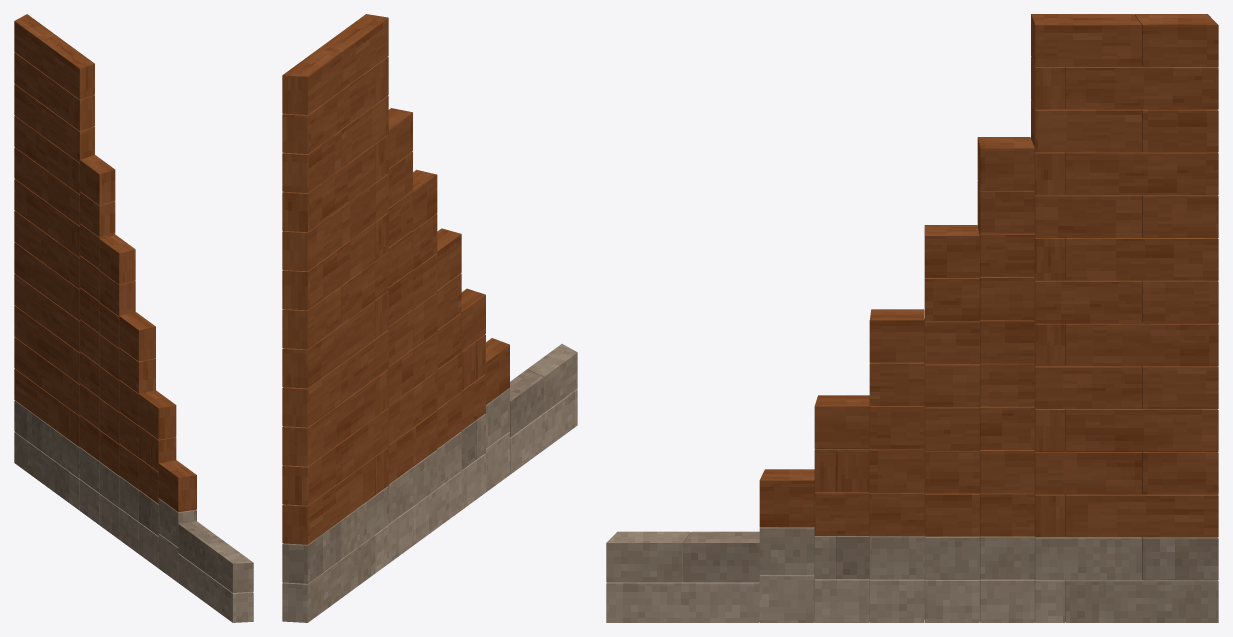
File: Courses-2.glb
3 renders of one model, left to right at view 1: azimuth 30°, elevation 25°; view 2: azimuth 150°, elevation 25°; view 3: azimuth 270°, elevation 25°, orthographic. The views are drawn at different scales.
Parts seen in each view (by area): view 1: Courses-2; view 2: Courses-2; view 3: Courses-2.
Part boxes in pixels (<box>): Courses-2: <box>14,14,253,622</box>; Courses-2: <box>282,14,577,622</box>; Courses-2: <box>606,14,1218,622</box>.
Bounding box in the file's own units: 0.141 × 3.55 × 3.29.
4 materials, 4 textured.
